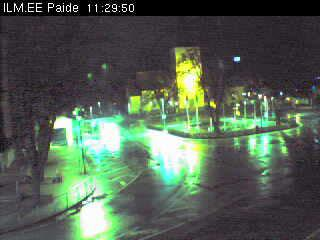car: (100, 121, 121, 141)
